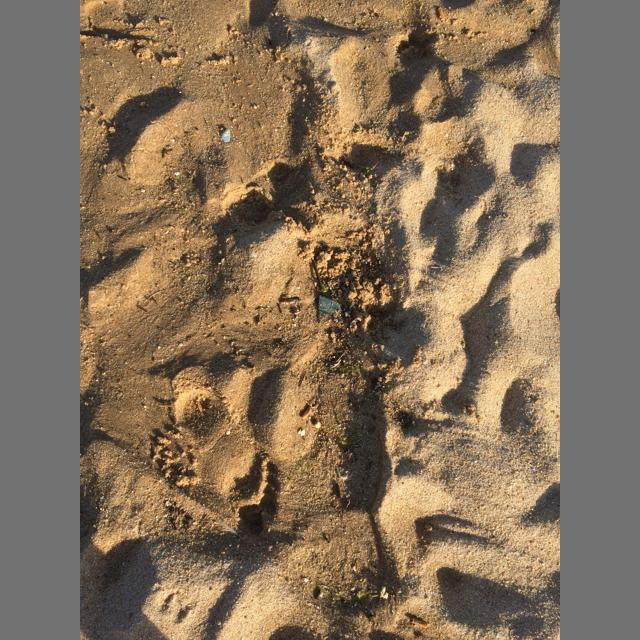litter: (318, 295, 344, 316), (410, 616, 427, 629), (301, 405, 313, 420), (436, 7, 445, 21)
